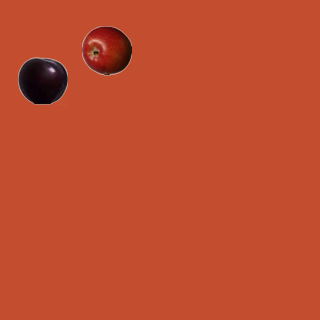Apple Braeburn: (81, 25, 131, 75)
Cherry Wax Black: (17, 55, 67, 105)
